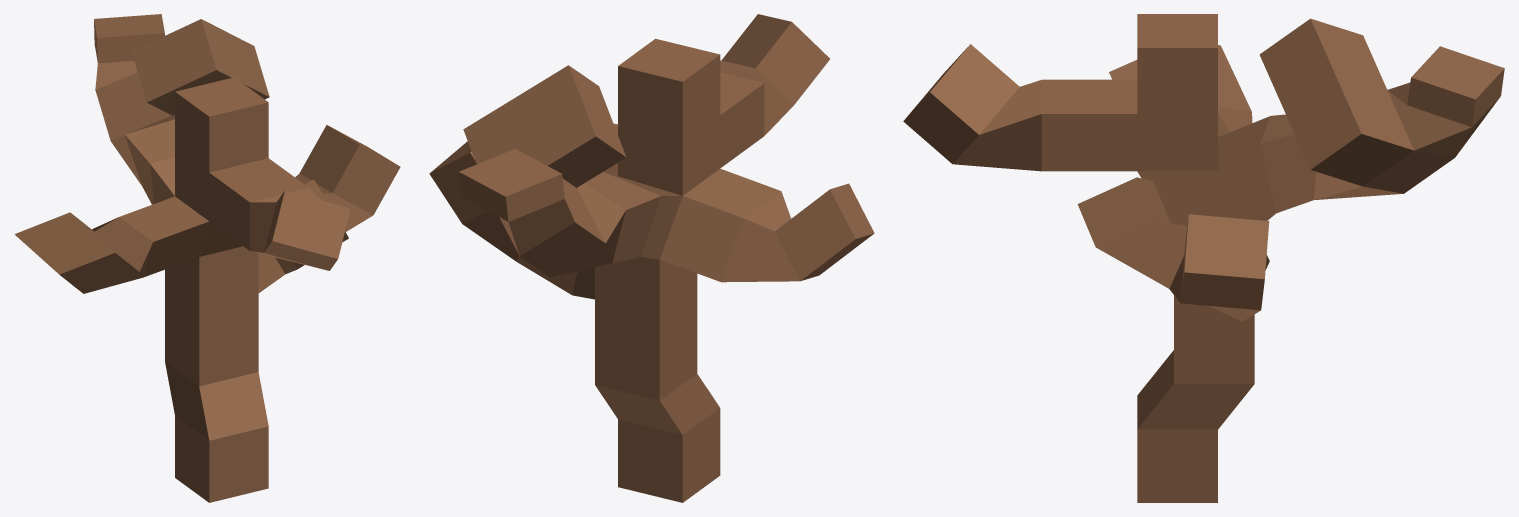
Rendered from Algas2.glb.
3 views of the same model, side by side, from view 1: azimuth 30°, elevation 25°; view 2: azimuth 150°, elevation 25°; view 3: azimuth 270°, elevation 25° (orthographic). The views are drawn at different scales.
Visible parts, largest first — view 1: Cube; view 2: Cube; view 3: Cube.
Boxes of the visible parts, x1,y1,x2,y2 form: Cube: (14,14,400,502); Cube: (429,14,874,502); Cube: (903,14,1504,502).
Bounding box in the file's own units: 12.53 × 13.33 × 14.89.
